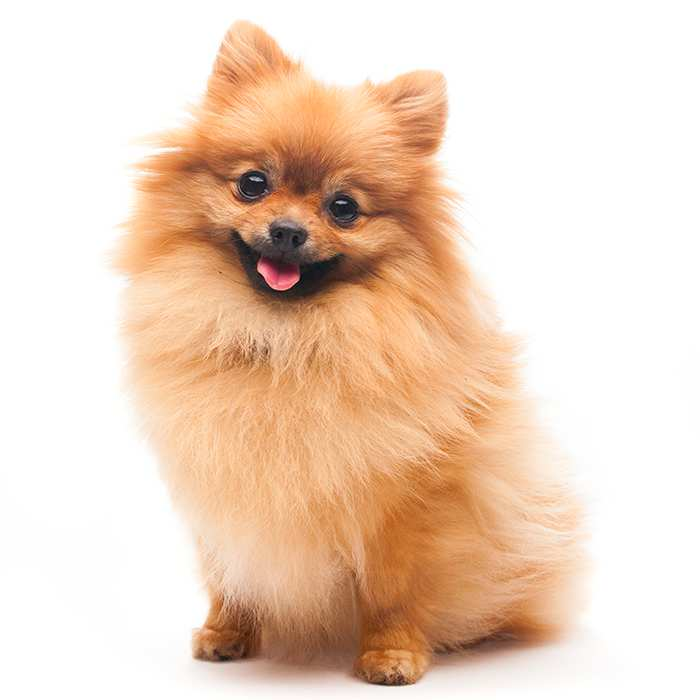pomeranian: (104, 12, 610, 688)
